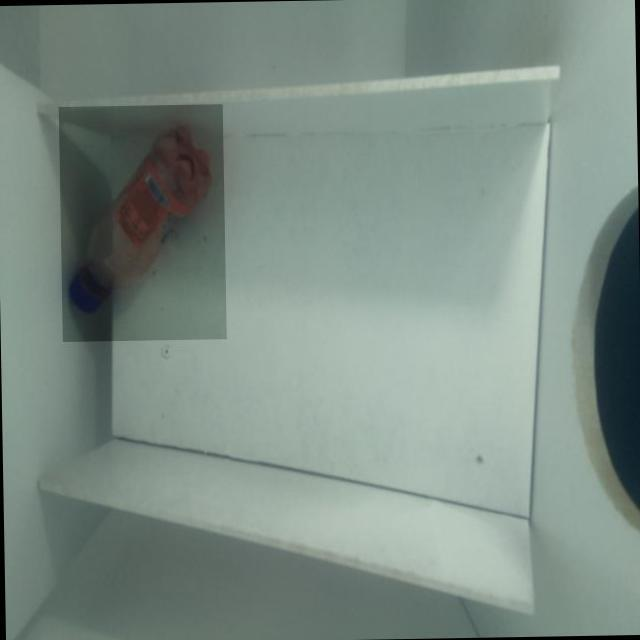good: (58, 104, 226, 342)
